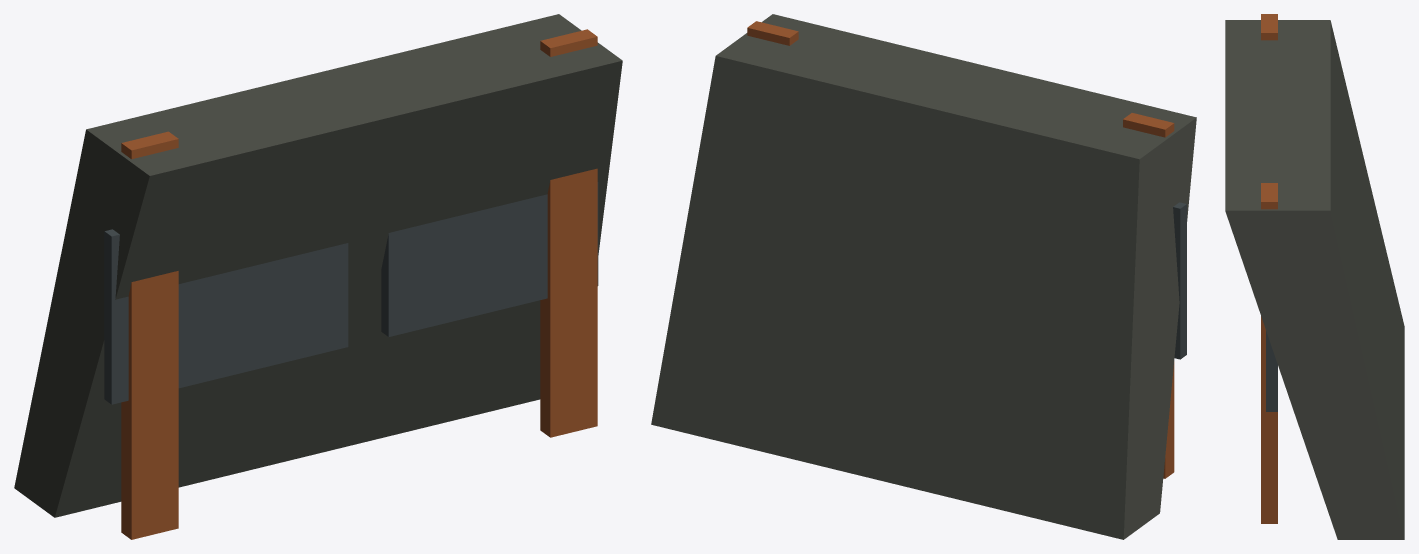
File: GEAR_EVIDENCE_CARRIER_LODs.fbx
3 renders of one model, left to right at view 1: azimuth 30°, elevation 25°; view 2: azimuth 150°, elevation 25°; view 3: azimuth 270°, elevation 25°, orthographic. The views are drawn at different scales.
Parts seen in each view (by area): view 1: GEAR_EVIDENCE_CARRIER_LOD0; view 2: GEAR_EVIDENCE_CARRIER_LOD0; view 3: GEAR_EVIDENCE_CARRIER_LOD0.
Boxes of the visible parts, bbox=[...] form: GEAR_EVIDENCE_CARRIER_LOD0: bbox=[14, 14, 622, 539]; GEAR_EVIDENCE_CARRIER_LOD0: bbox=[651, 14, 1196, 539]; GEAR_EVIDENCE_CARRIER_LOD0: bbox=[1225, 14, 1404, 539].
Size of what is drawn, in the model's own units: 0.28 by 0.2 by 0.1.
